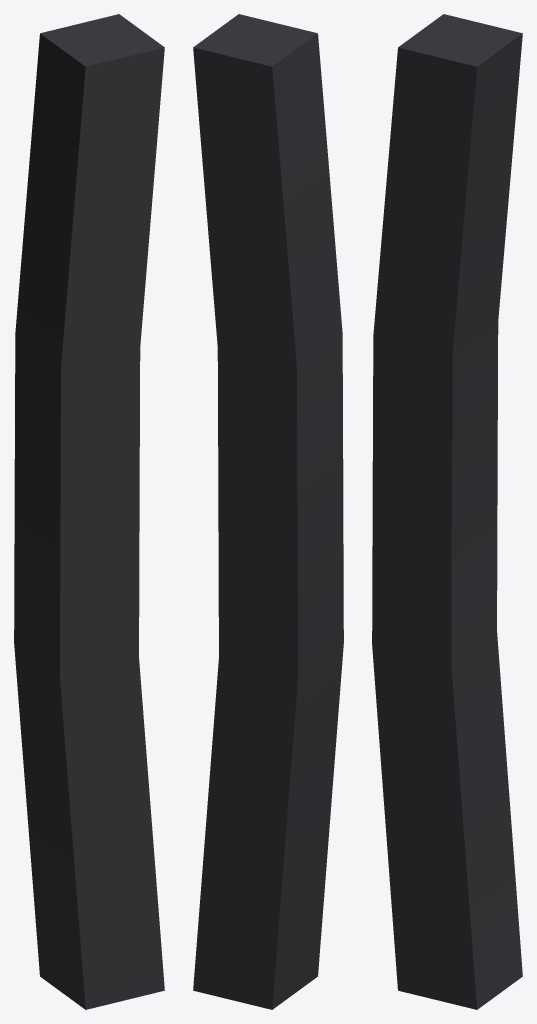
Rendered from SM_L_G_Home_Pillar.fbx.
3 renders of one model, left to right at view 1: azimuth 30°, elevation 25°; view 2: azimuth 150°, elevation 25°; view 3: azimuth 330°, elevation 25°, orthographic.
Parts seen in each view (by area): view 1: SM_L_G_Home_pillar; view 2: SM_L_G_Home_pillar; view 3: SM_L_G_Home_pillar.
Boxes of the visible parts, bbox=[...] form: SM_L_G_Home_pillar: bbox=[14, 14, 164, 1009]; SM_L_G_Home_pillar: bbox=[193, 14, 343, 1009]; SM_L_G_Home_pillar: bbox=[372, 14, 522, 1009].
Size of the model in its own units: 0.3504 by 3.01 by 0.2641.
